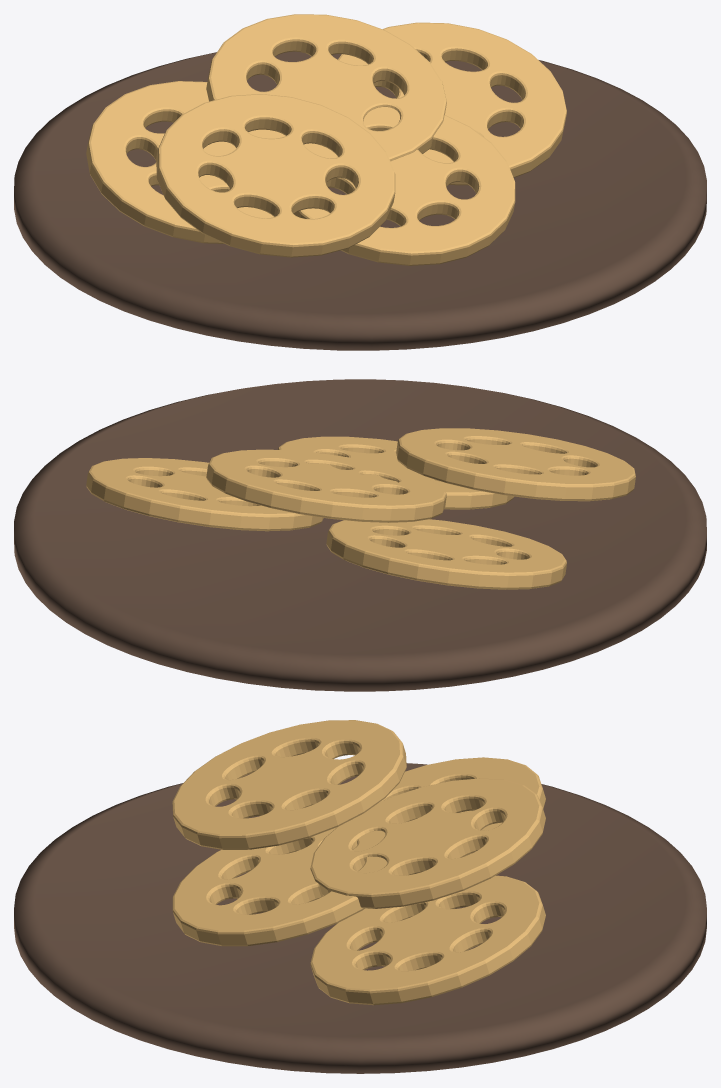
Rendered from 34-lotus.glb.
The picture shows the model from 3 angles, top to bottom: view 1: azimuth 30°, elevation 25°; view 2: azimuth 150°, elevation 25°; view 3: azimuth 270°, elevation 25°; orthographic projection.
Visible parts, largest first — view 1: 바삭한 연근칩; view 2: 바삭한 연근칩; view 3: 바삭한 연근칩.
Boxes of the visible parts, bbox=[...] form: 바삭한 연근칩: bbox=[14, 14, 706, 350]; 바삭한 연근칩: bbox=[14, 379, 706, 691]; 바삭한 연근칩: bbox=[14, 720, 706, 1073].
Size of the model in its own units: 2 by 0.4423 by 2.
